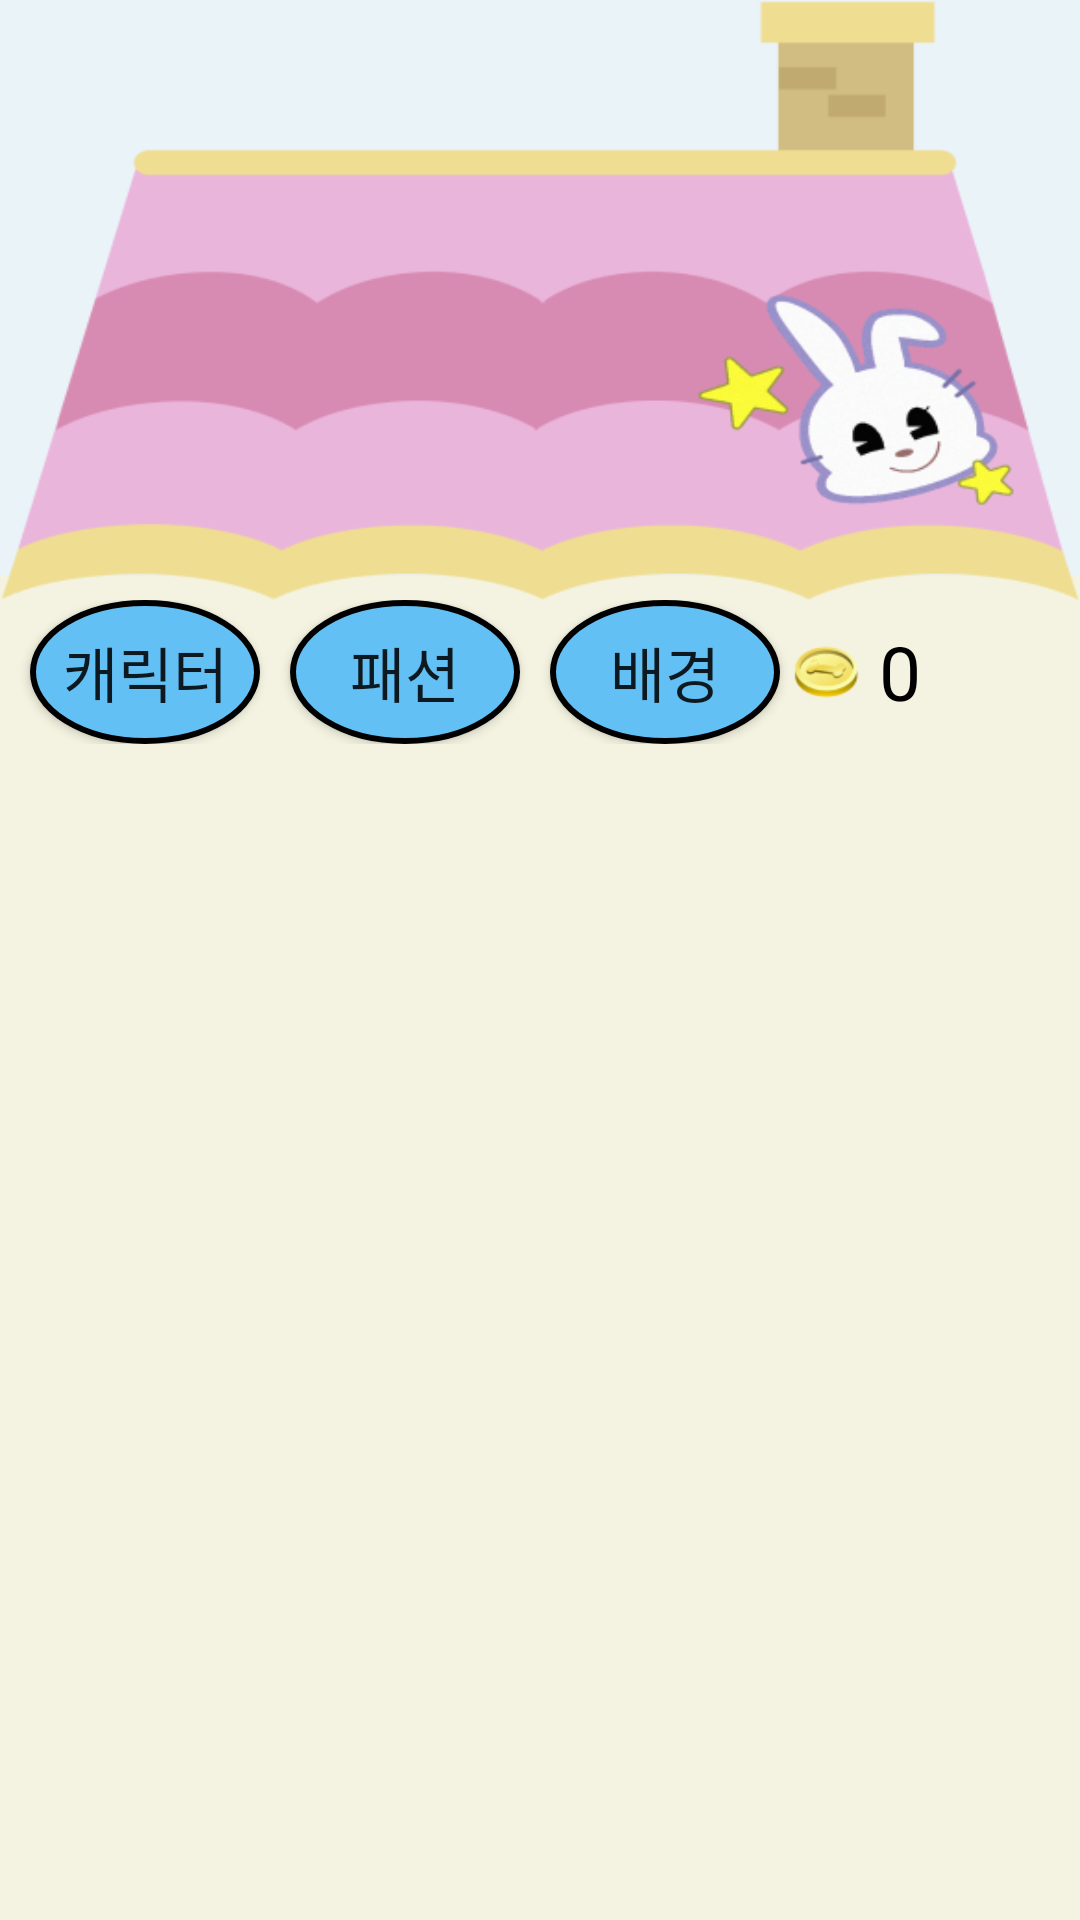

Screen size 1080 x 1920. Icon name, then its center in pixels as point (x, y):
coin: point (826, 672)
